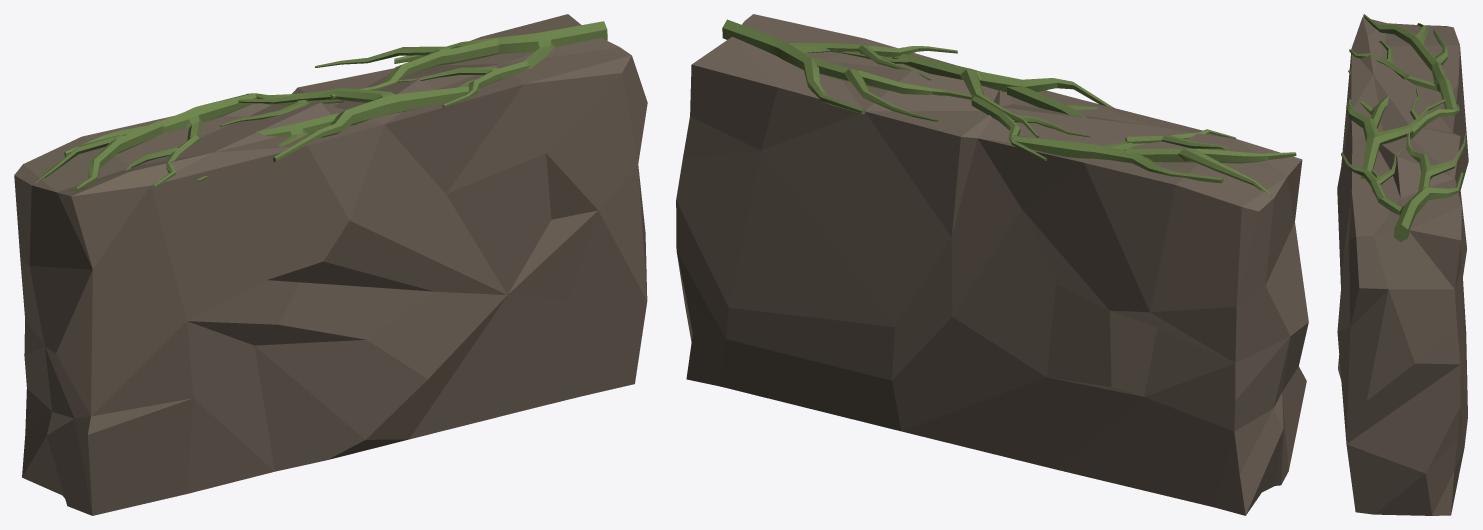
Rendered from wallvines01.fbx.
The picture shows the model from 3 angles, left to right: view 1: azimuth 30°, elevation 25°; view 2: azimuth 150°, elevation 25°; view 3: azimuth 270°, elevation 25°; orthographic projection. The views are drawn at different scales.
Visible parts, largest first — view 1: WallVines; view 2: WallVines; view 3: WallVines.
Boxes of the visible parts, bbox=[...] form: WallVines: bbox=[14, 14, 647, 515]; WallVines: bbox=[676, 14, 1308, 515]; WallVines: bbox=[1337, 14, 1468, 515].
Size of the model in its own units: 4.09 by 2.26 by 0.9397.
